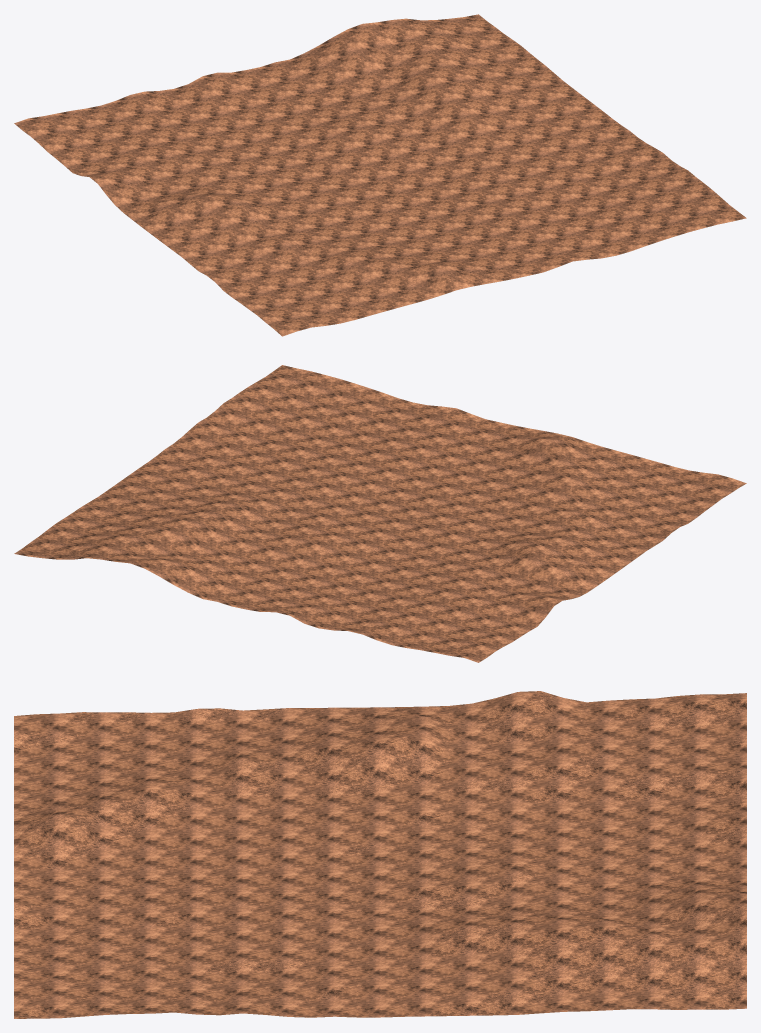
File: terrain_03_03.dae
3 views of the same model, one above another, from view 1: azimuth 30°, elevation 25°; view 2: azimuth 150°, elevation 25°; view 3: azimuth 270°, elevation 25° (orthographic). The views are drawn at different scales.
Visible parts, largest first — view 1: terrain_03_03-node; view 2: terrain_03_03-node; view 3: terrain_03_03-node.
Boxes of the visible parts, box(x1,y1,x2,y2) form: terrain_03_03-node: box(14, 14, 746, 336); terrain_03_03-node: box(14, 365, 746, 662); terrain_03_03-node: box(14, 691, 746, 1018).
Bounding box in the file's own units: 128 × 128 × 8.56.
1 material, 1 textured.
